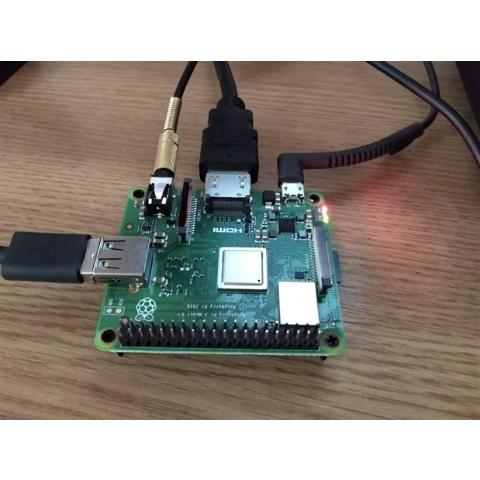Raspberry-Pi-3-Model-A-: (90, 177, 356, 367)
